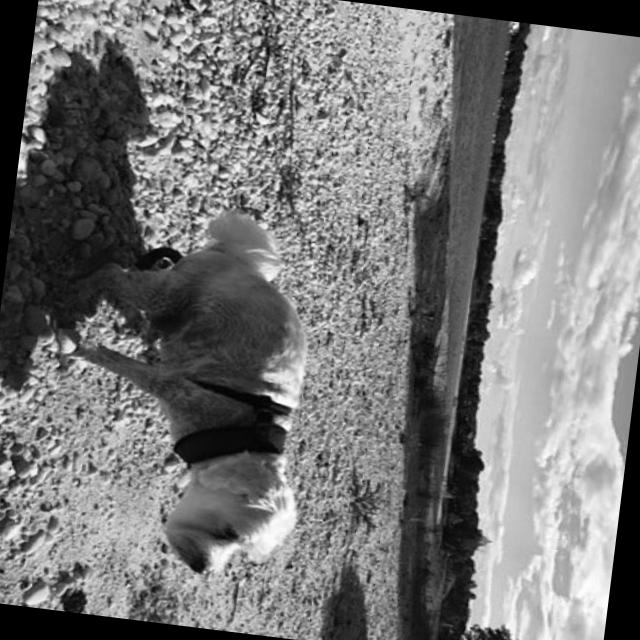squatting: (15, 181, 335, 594)
